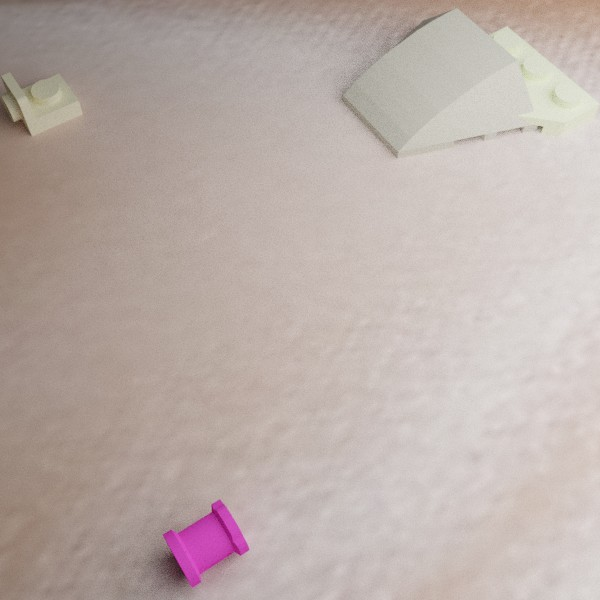lego: (343, 8, 538, 158), (401, 26, 600, 135), (162, 499, 249, 588), (0, 71, 82, 136)
